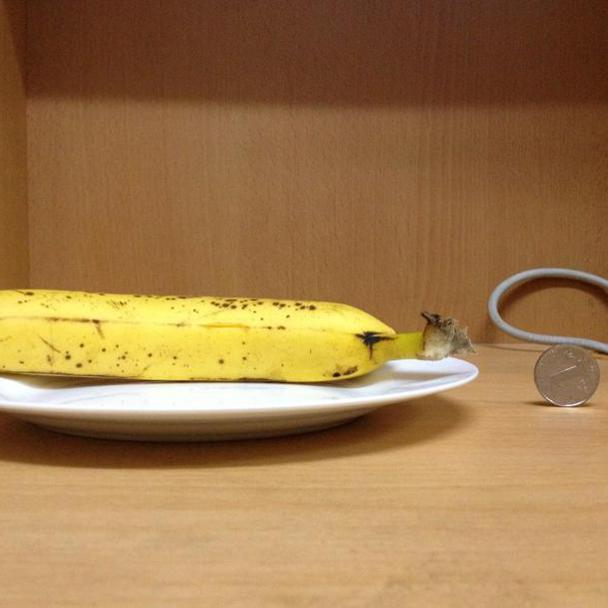banana: (1, 281, 476, 392)
